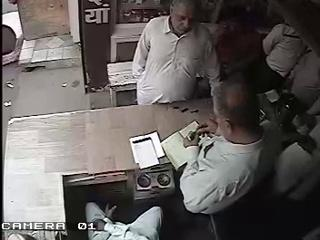Normal: (179, 78, 266, 215), (131, 0, 221, 105)
